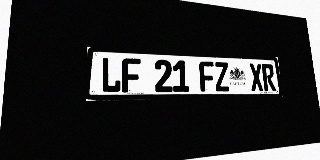1: (172, 60, 189, 92)
2: (155, 59, 173, 92)
F: (122, 58, 141, 93), (199, 61, 215, 92)
L: (101, 57, 121, 93)
R: (261, 64, 276, 91)
X: (249, 63, 264, 91)
Z: (214, 62, 230, 91)
